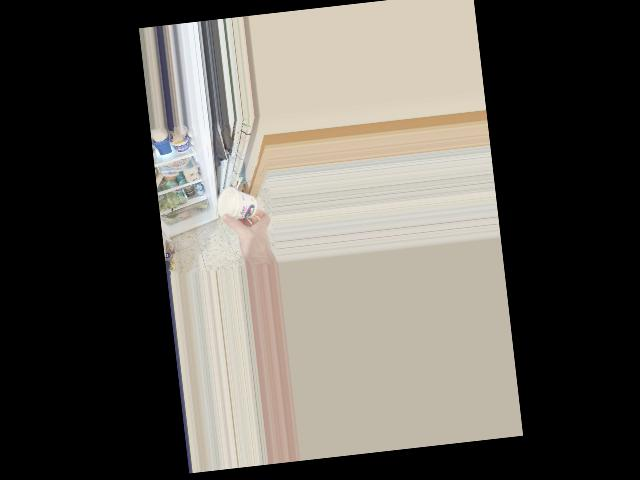cotage: (220, 181, 254, 221)
